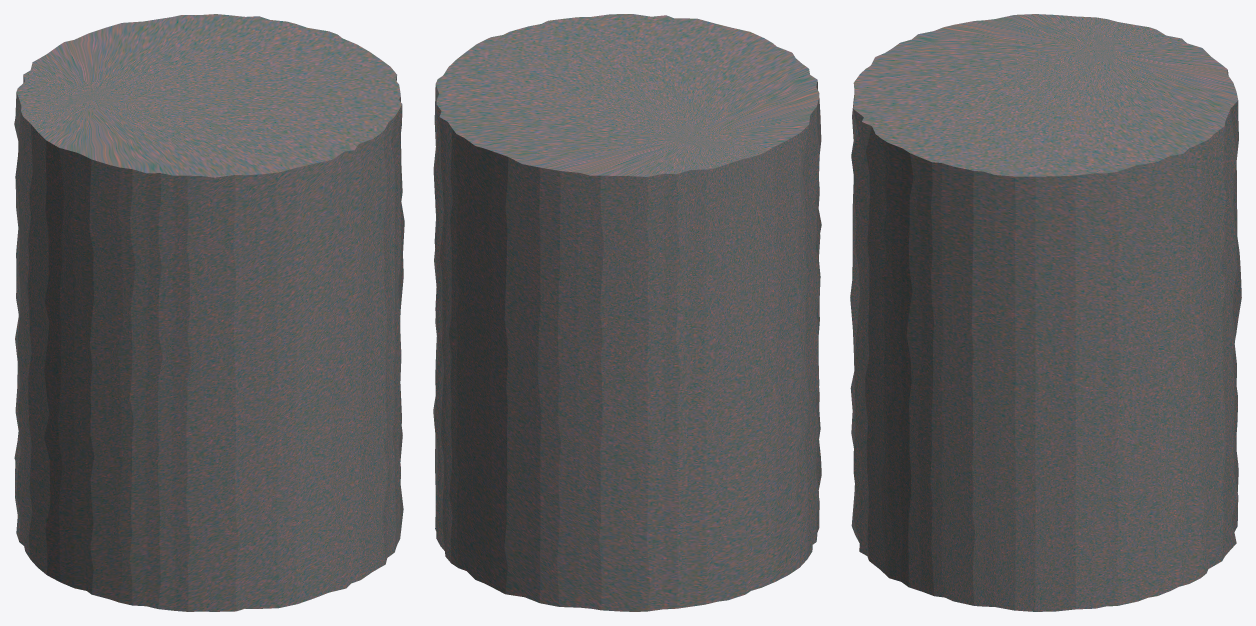
The model's file is barrel_21.dae.
3 views of the same model, side by side, from view 1: azimuth 30°, elevation 25°; view 2: azimuth 150°, elevation 25°; view 3: azimuth 270°, elevation 25° (orthographic).
Visible parts, largest first — view 1: Cylinder; view 2: Cylinder; view 3: Cylinder.
Part boxes in pixels (box(x1,y1,x2,y2)): Cylinder: box(14, 14, 404, 611); Cylinder: box(433, 14, 821, 611); Cylinder: box(850, 14, 1241, 611).
Size of the model in its own units: 0.8184 by 0.817 by 1.
1 material, 1 textured.
